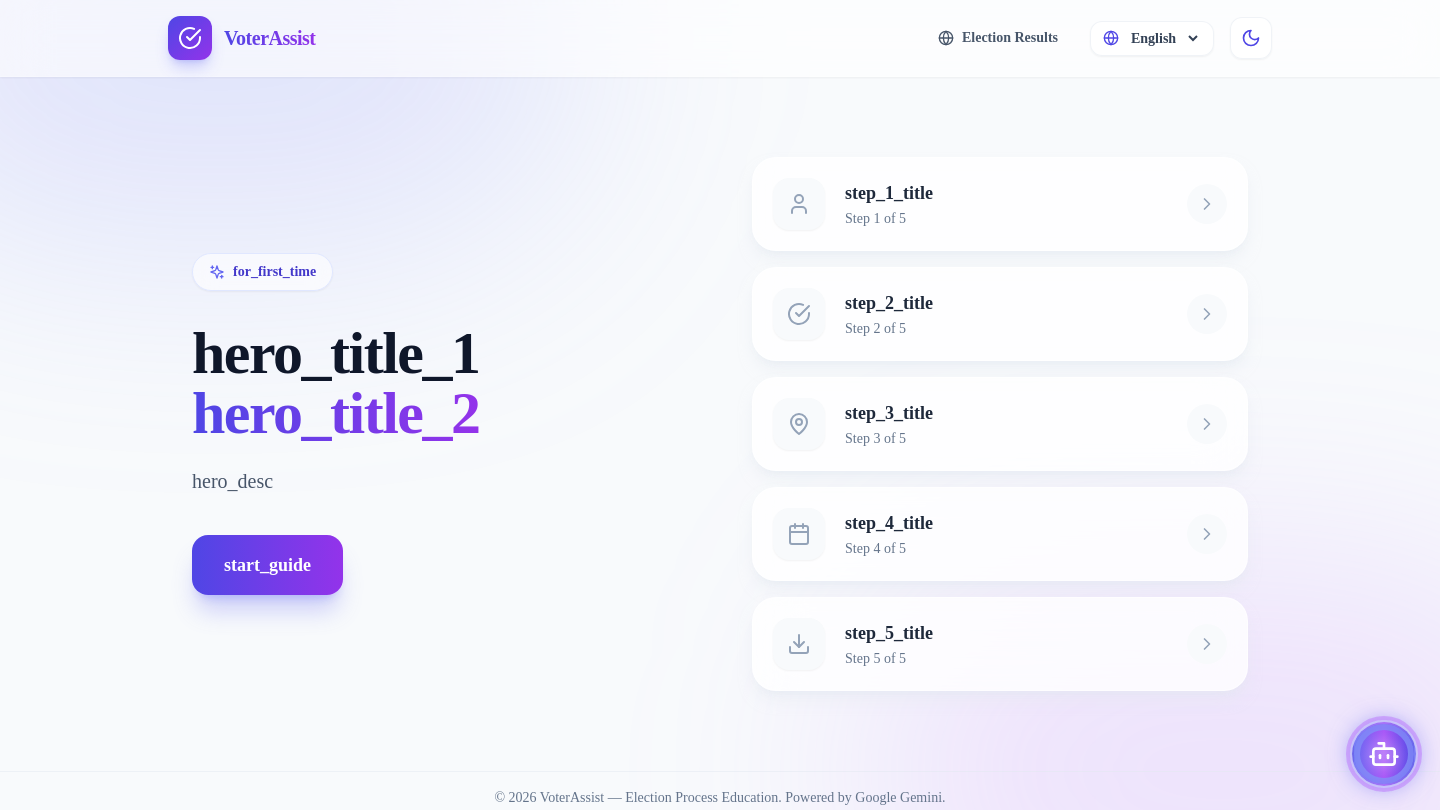
Test: Chat Flow Integration › completes a full chat interaction: open → type → submit → response
Note: Open chat
Click the button named "Open AI Chat".
click(1384, 754)  # box x1=1352 y1=722 x2=1416 y2=786
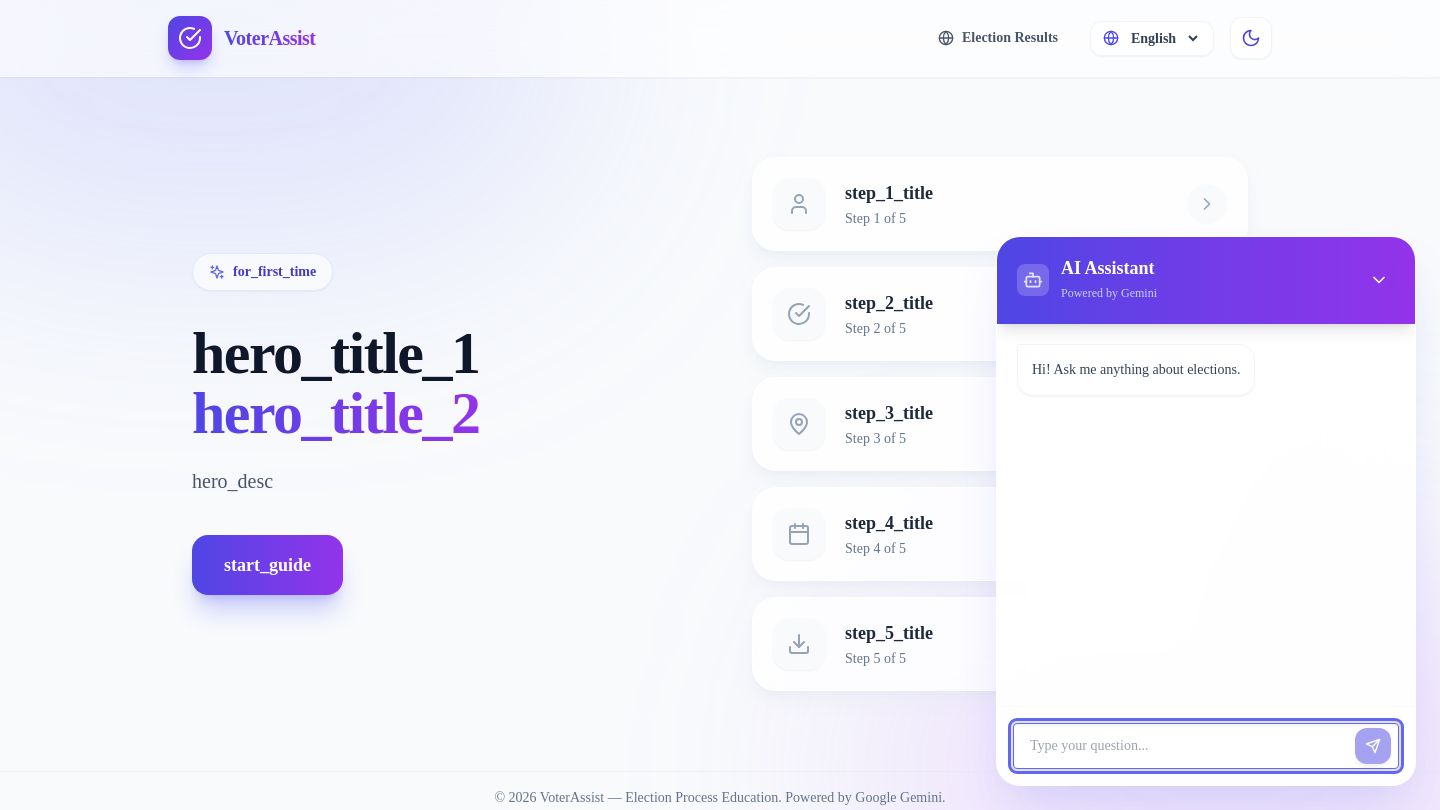
Check: the text "AI Assistant" is shown, box x1=1061 y1=257 x2=1157 y2=280
Check: the text "Hi! Ask me anything about elections." is shown, box x1=1017 y1=344 x2=1255 y2=396
Note: Type a message
Type "Am I eligible to vote?" into the field with placeholder "Type your question...".
click(1206, 746); type("Am I eligible to vote?")  # box x1=1013 y1=723 x2=1399 y2=769
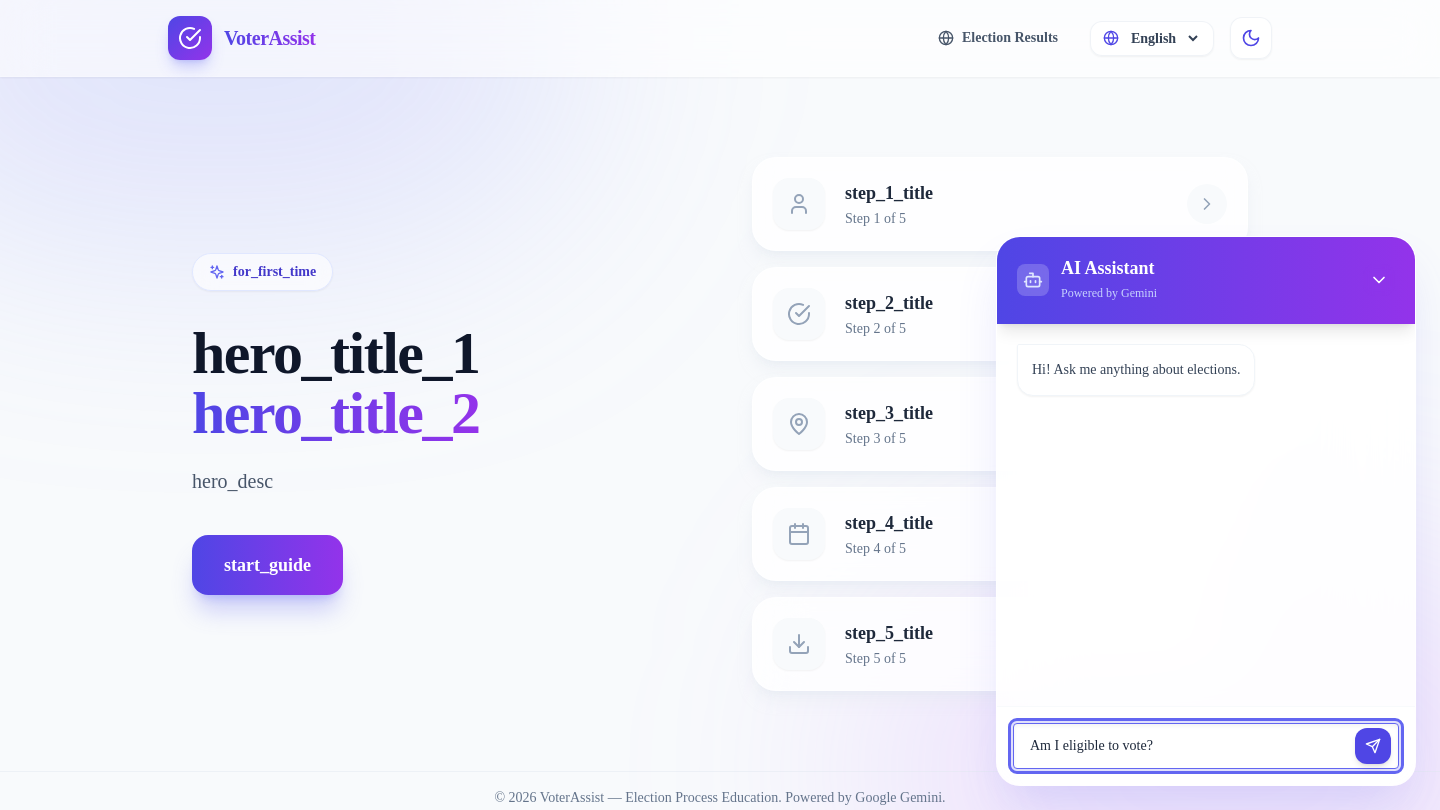
Click the button named "Send message".
click(1373, 746)  # box x1=1355 y1=728 x2=1391 y2=764
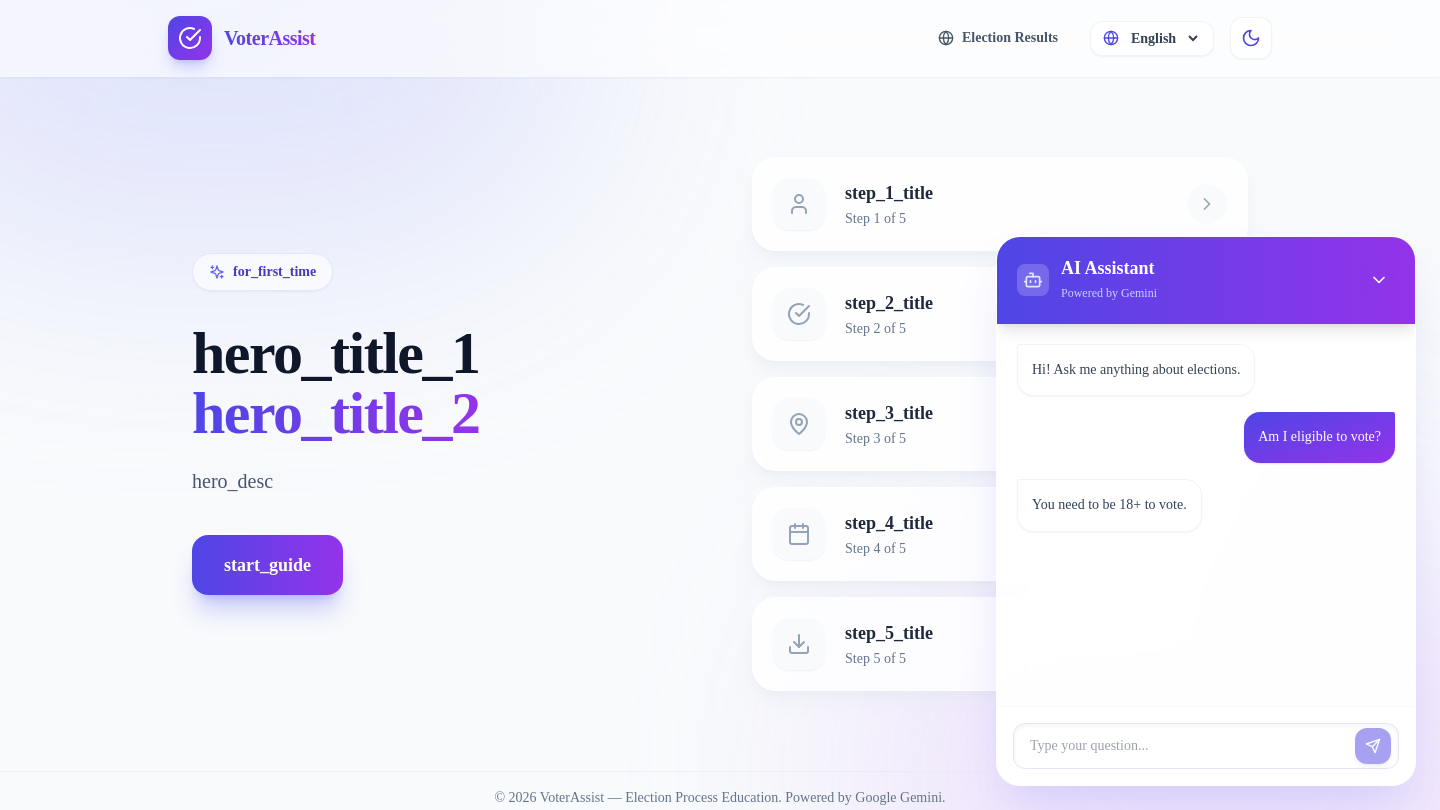
Check: the text "You need to be 18+ to vote." is shown, box x1=1017 y1=479 x2=1202 y2=532
